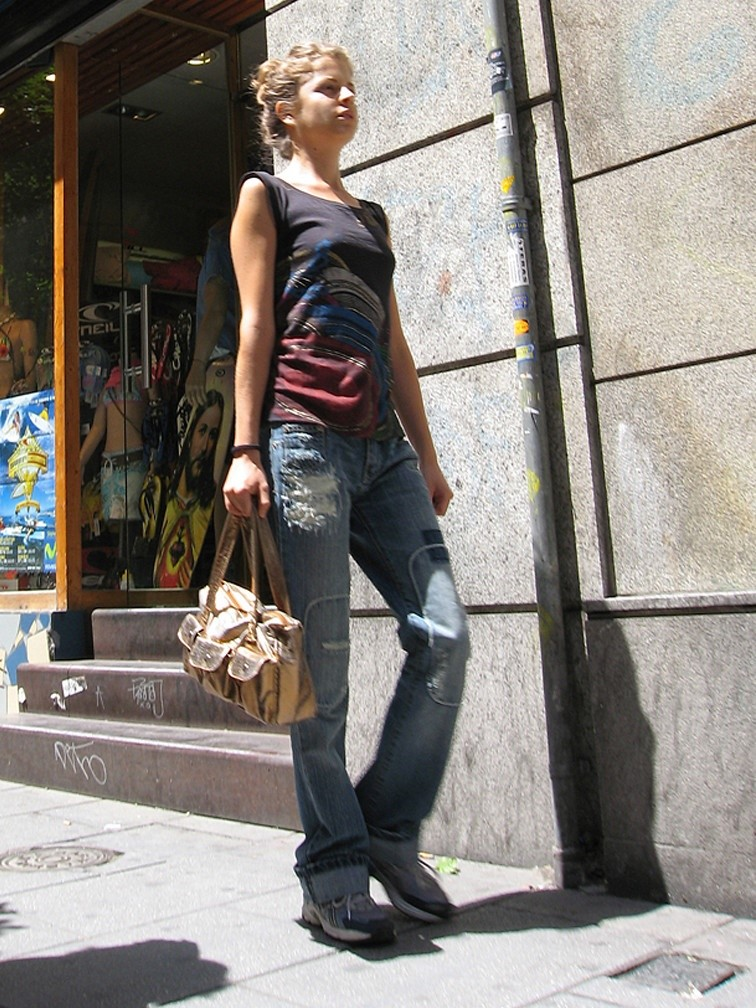face_no_mask: (253, 46, 358, 150)
